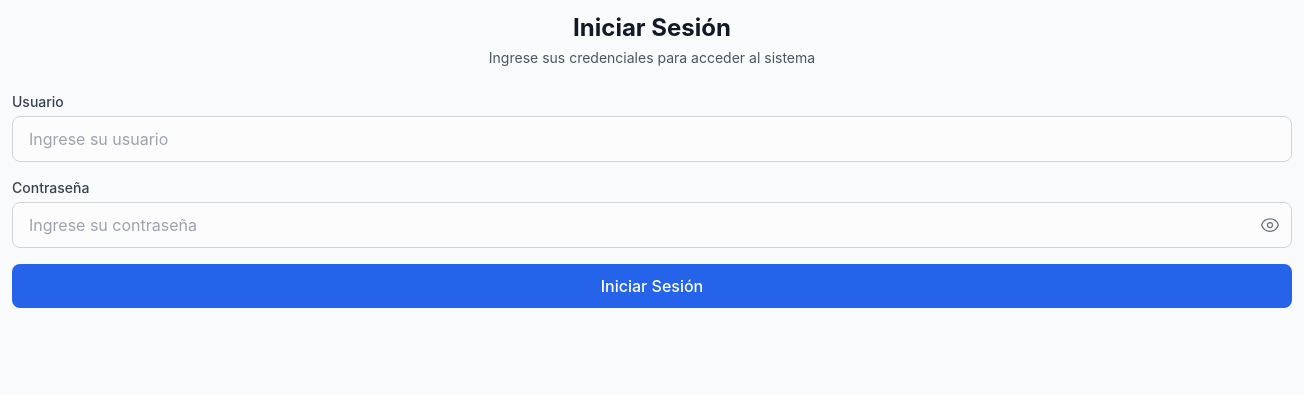
Test: LoginPage › shows error when password is empty on submit
The width and height of the screenshot is (1304, 395).
In the field labelled "Usuario": (652, 139) [12,116,1292,162], type "doctor1"
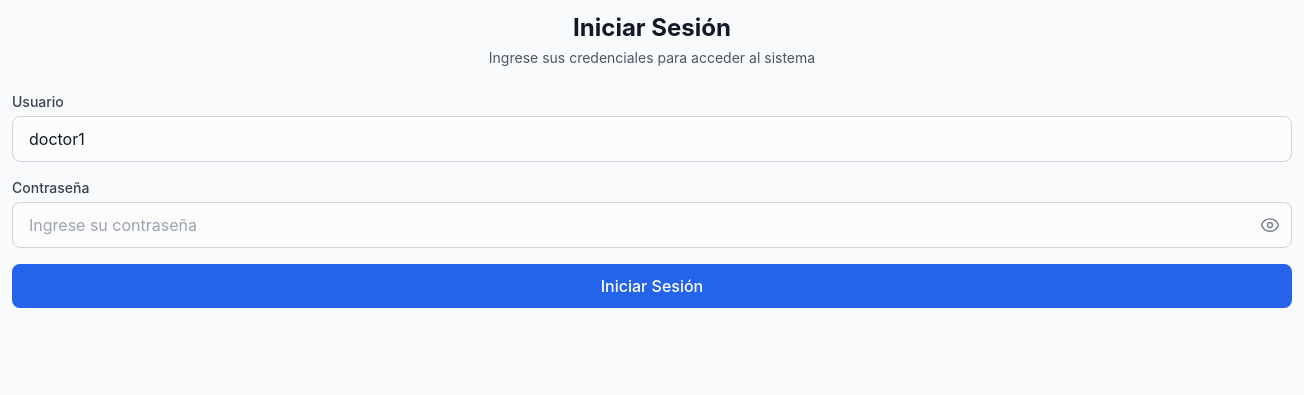
Click the button "Iniciar Sesión": (652, 286) [12,264,1292,308]
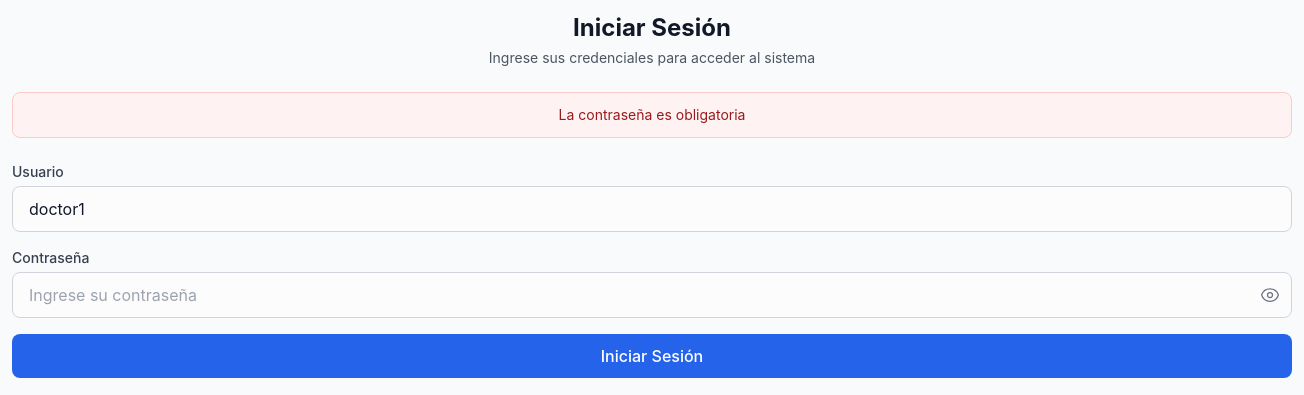
Now the text "La contraseña es obligatoria" is shown, box [558,106,745,123]
